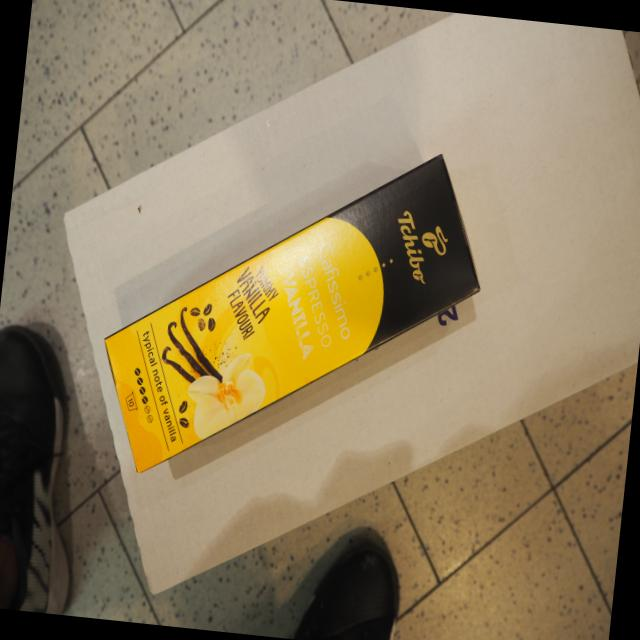Simo Es Vanilla: (96, 152, 484, 483)
